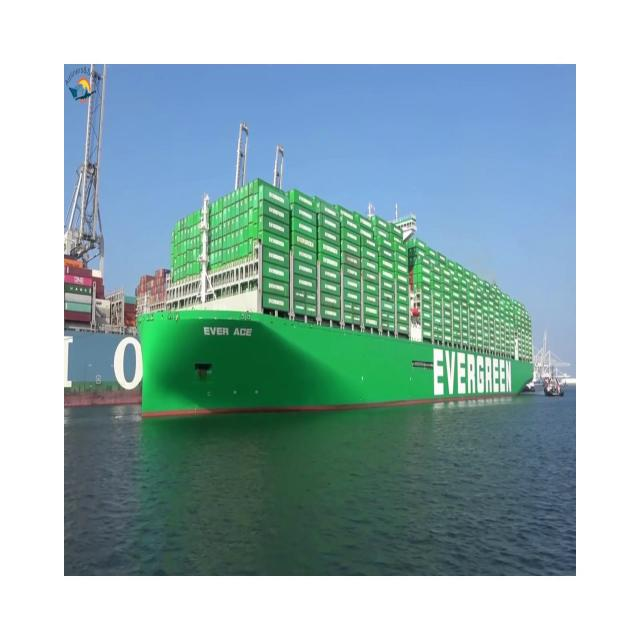OCR: (428, 341, 515, 402), (200, 314, 258, 347)
